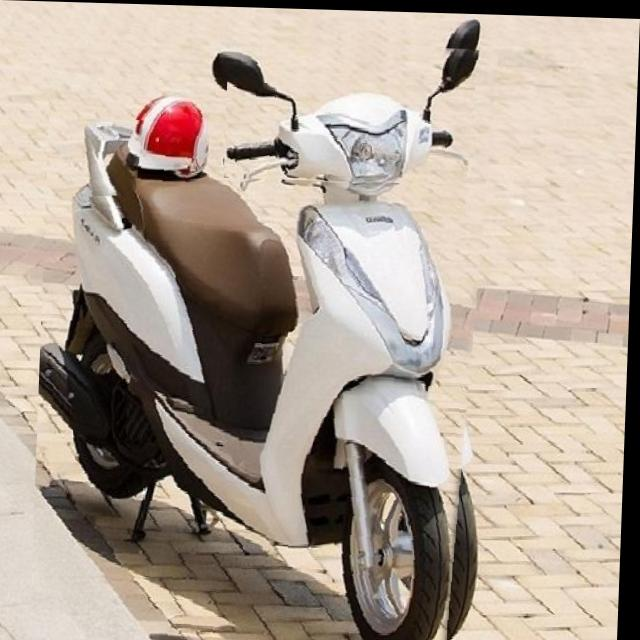All: (34, 18, 500, 640)
Head: (225, 78, 475, 182)
Tail: (70, 118, 145, 198)
